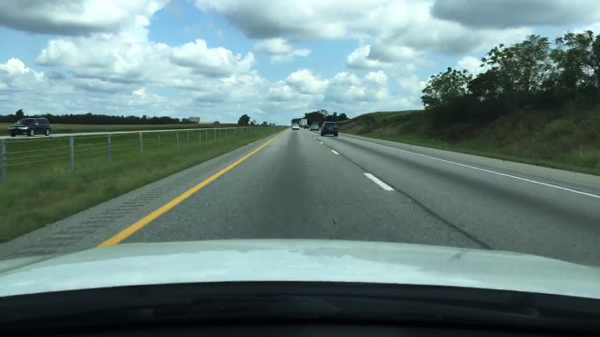car: (8, 118, 52, 137), (320, 121, 339, 136), (310, 124, 319, 132), (292, 124, 299, 131), (303, 124, 309, 129)
traffic sign: (189, 117, 201, 123), (312, 122, 321, 125), (263, 121, 267, 127)
truck: (298, 118, 308, 127), (268, 121, 277, 127)
